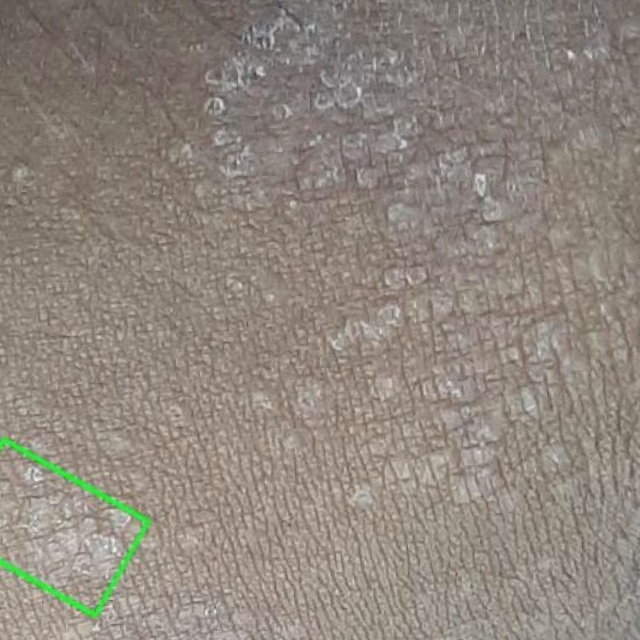Atopic Dermatitis: (0, 439, 147, 614)
